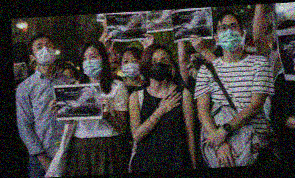with_mask: (216, 19, 242, 52), (147, 55, 171, 83), (80, 50, 103, 79), (32, 40, 57, 65), (120, 55, 140, 78), (190, 53, 207, 70)
